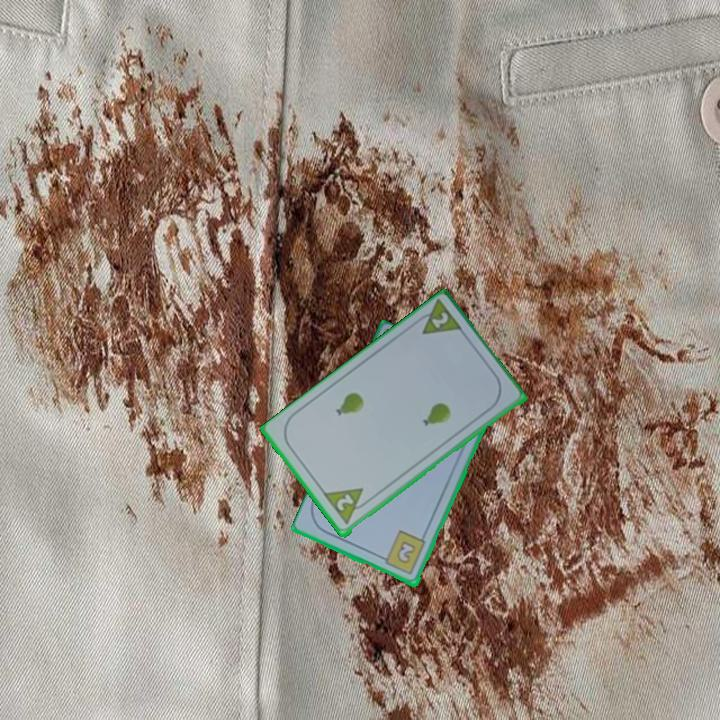2b: (377, 528, 429, 578)
2p: (332, 491, 357, 514), (428, 309, 452, 332)
